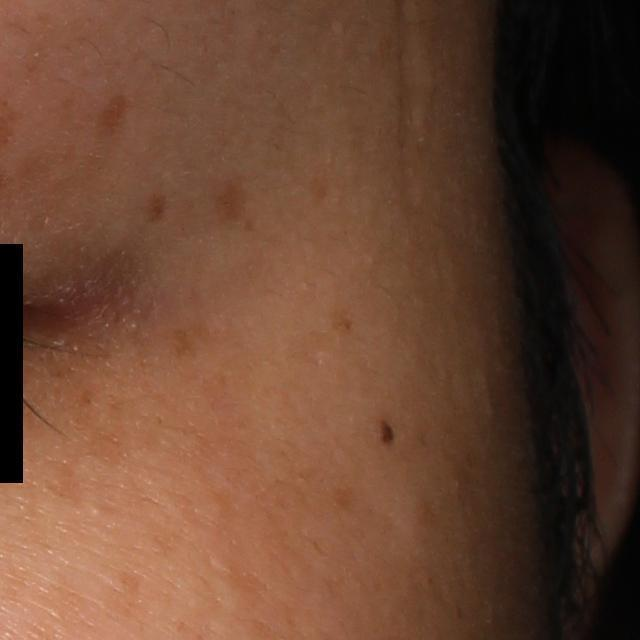melasma: (42, 320, 277, 460), (94, 94, 134, 147), (214, 175, 252, 223), (141, 192, 171, 230)
nevus: (376, 416, 397, 449)
